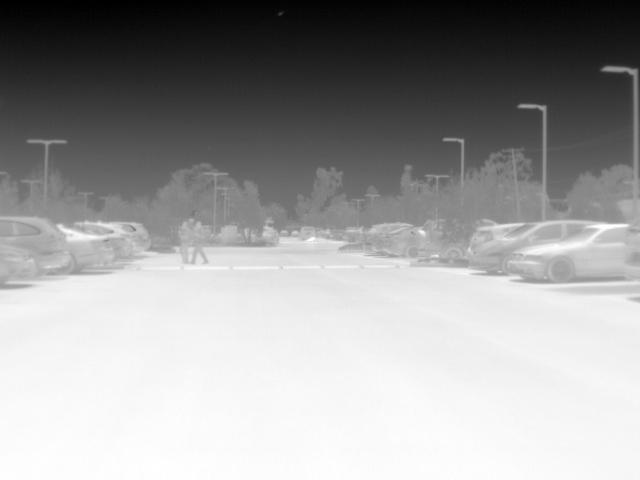car: (504, 221, 628, 285), (469, 220, 597, 276), (0, 214, 71, 272), (57, 223, 115, 272), (74, 222, 127, 262), (470, 223, 521, 260), (362, 221, 413, 255), (0, 241, 38, 285), (102, 221, 150, 255), (373, 226, 419, 258), (300, 224, 317, 241)
person: (191, 222, 208, 264), (177, 220, 192, 264)
